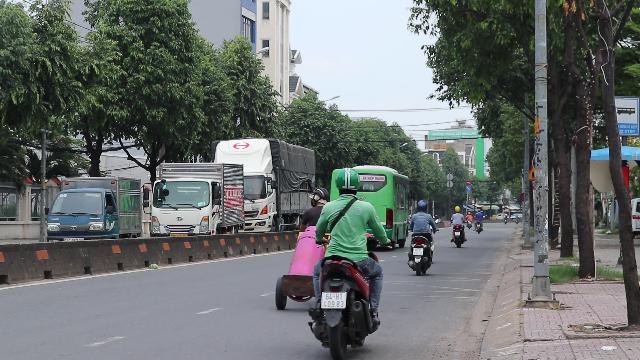helmet: (332, 168, 360, 196), (310, 188, 326, 204)
licenseplate: (322, 292, 346, 308)
motorcyclist: (305, 167, 387, 358)
